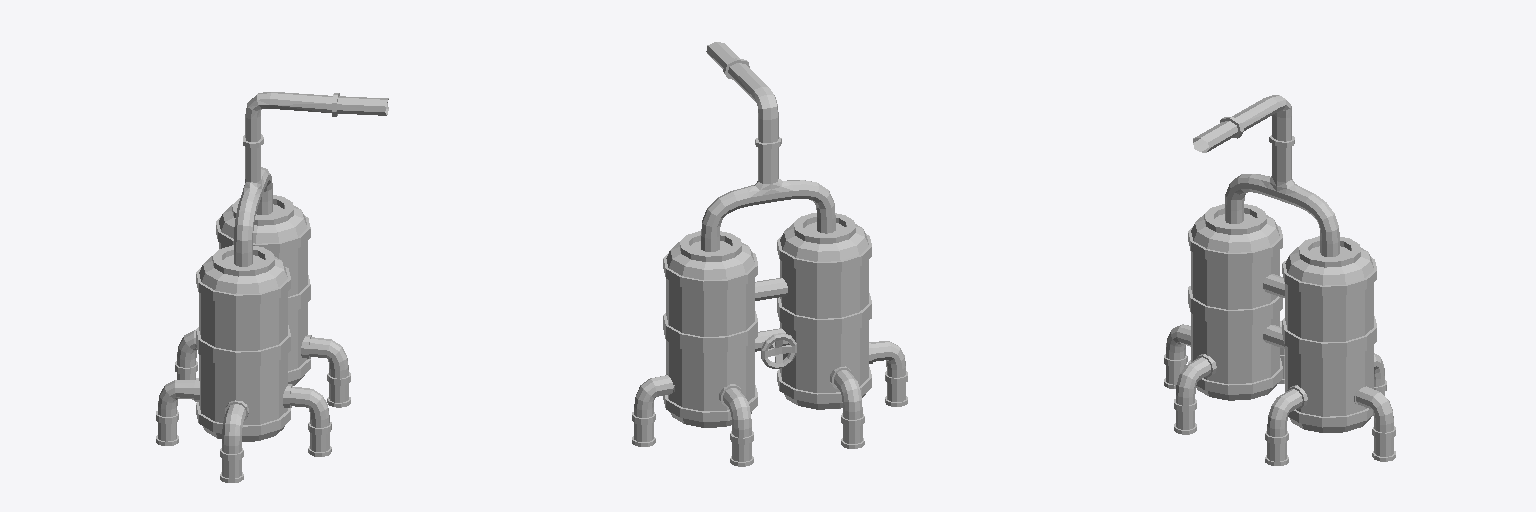
File: doubleTanks.obj
The picture shows the model from 3 angles: view 1: azimuth 30°, elevation 25°; view 2: azimuth 150°, elevation 25°; view 3: azimuth 270°, elevation 25°; orthographic projection.
Visible parts, largest first — view 1: doubleTanks; view 2: doubleTanks; view 3: doubleTanks.
Boxes of the visible parts, x1=… form: doubleTanks: x1=156, y1=92, x2=388, y2=482; doubleTanks: x1=632, y1=42, x2=907, y2=466; doubleTanks: x1=1164, y1=95, x2=1395, y2=465.
Size of the model in its own units: 10.03 by 16.41 by 10.41.